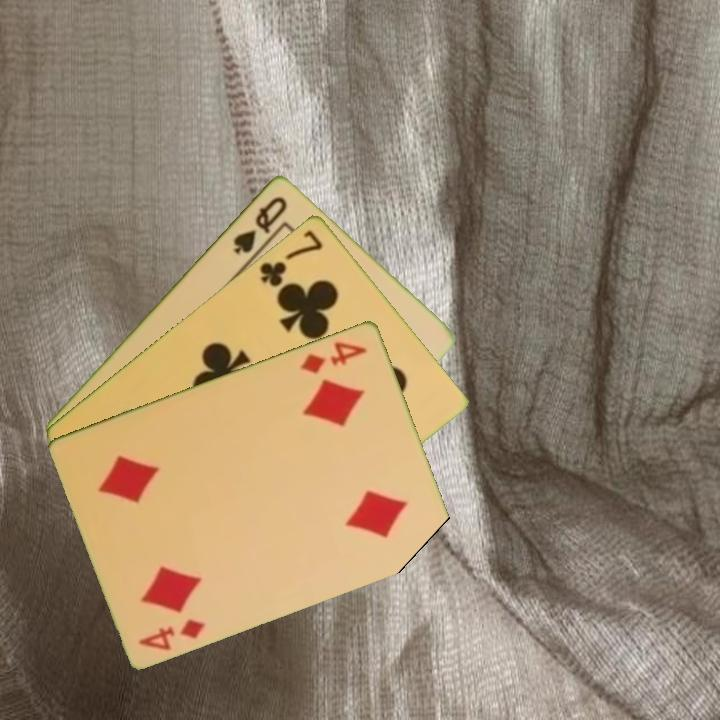4d: (297, 337, 371, 376), (135, 614, 209, 653)
7c: (256, 226, 326, 290)
Qs: (229, 192, 291, 257)
